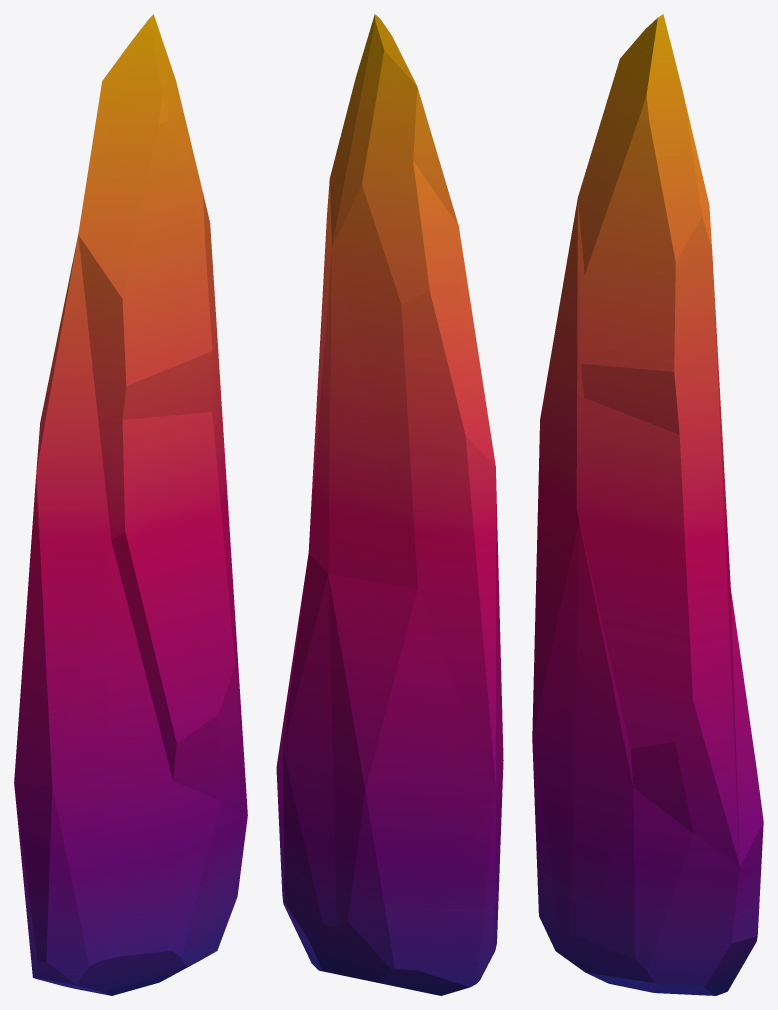
The model's file is cristales06.fbx.
3 views of the same model, side by side, from view 1: azimuth 30°, elevation 25°; view 2: azimuth 150°, elevation 25°; view 3: azimuth 330°, elevation 25° (orthographic).
Visible parts, largest first — view 1: cristal07; view 2: cristal07; view 3: cristal07.
Part boxes in pixels (<box>): cristal07: <box>14,14,247,995</box>; cristal07: <box>276,14,503,995</box>; cristal07: <box>532,14,763,995</box>.
Bounding box in the file's own units: 413 × 1694 × 192.
1 material, 1 textured.
